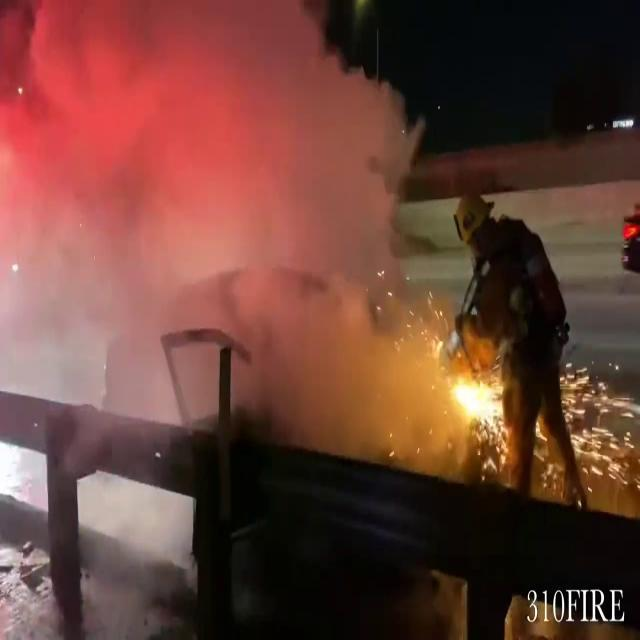Smoke: (0, 0, 470, 390)
